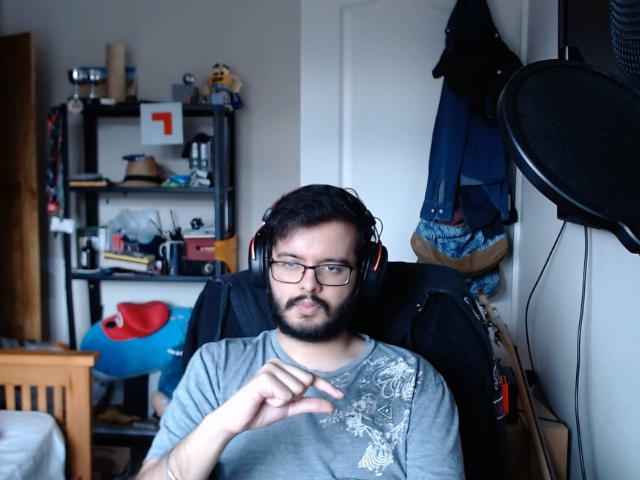Small: (218, 350, 354, 446)
